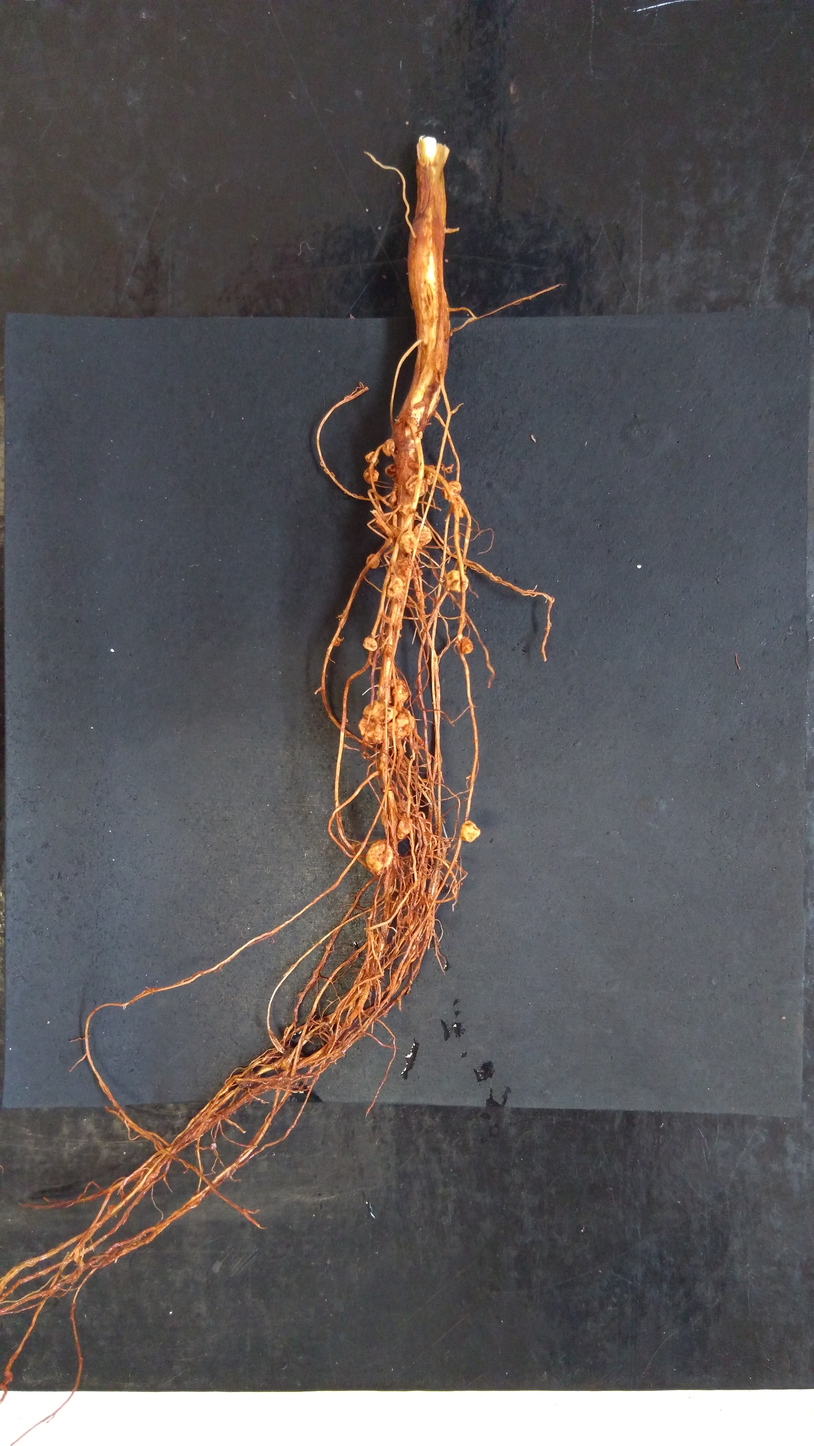nodule: (361, 839, 395, 877), (361, 698, 400, 726), (385, 706, 416, 740), (356, 714, 385, 746), (455, 818, 485, 846), (390, 556, 417, 583), (405, 470, 429, 500), (387, 675, 410, 705), (444, 567, 469, 593), (439, 479, 466, 503), (412, 521, 433, 548), (385, 575, 405, 603), (392, 815, 412, 842), (454, 633, 474, 658), (398, 528, 414, 557), (360, 465, 380, 484), (363, 552, 381, 572), (382, 437, 397, 459), (421, 467, 437, 487), (362, 635, 378, 655), (397, 498, 413, 518), (382, 461, 398, 477), (365, 450, 380, 465), (388, 491, 397, 506)
